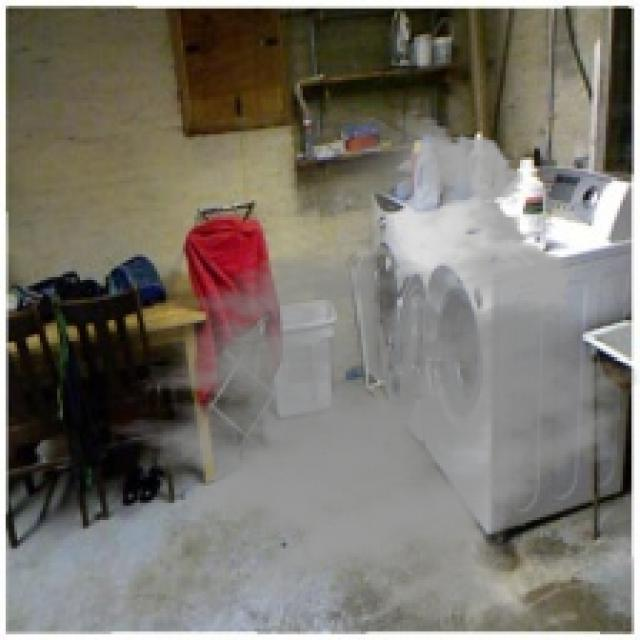Smoke: (85, 109, 638, 626)
